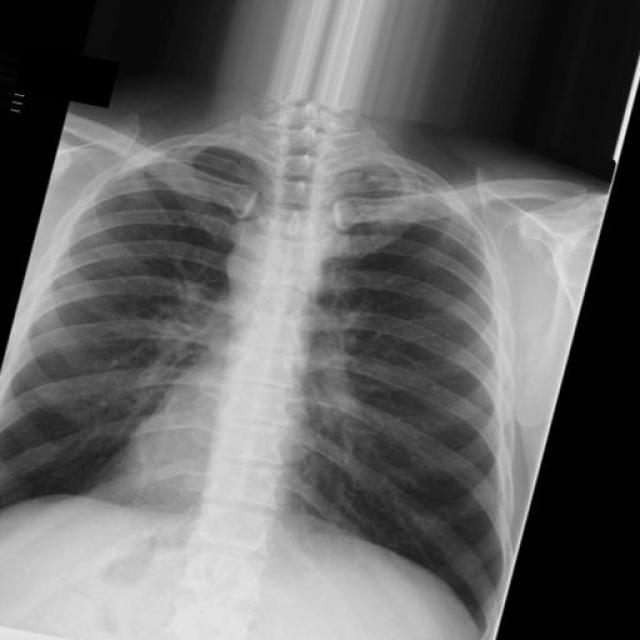tuberculosis: (0, 0, 640, 640)
